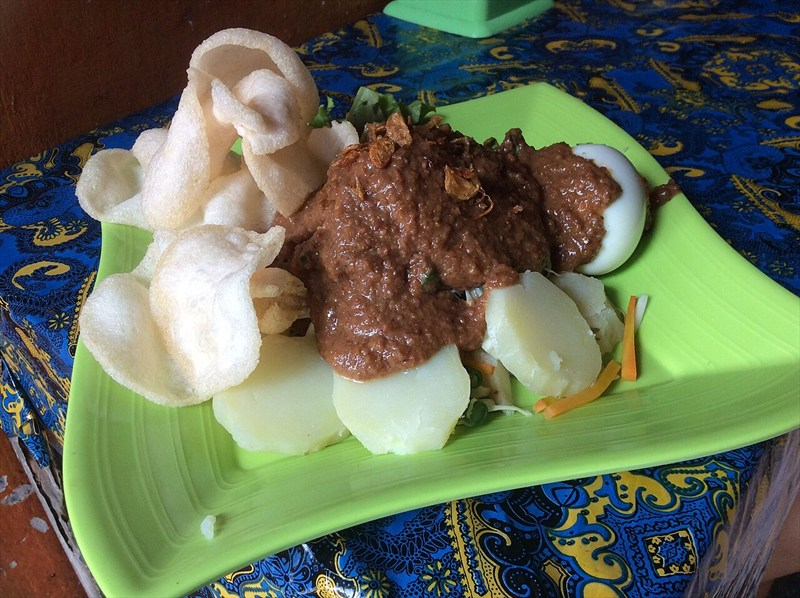Gado-Gado: (47, 74, 748, 559)
